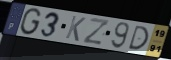3: (39, 11, 63, 39)
9: (109, 22, 130, 50)
D: (127, 24, 150, 51)
G: (19, 8, 43, 37)
K: (64, 15, 87, 43)
Z: (81, 16, 111, 46)
